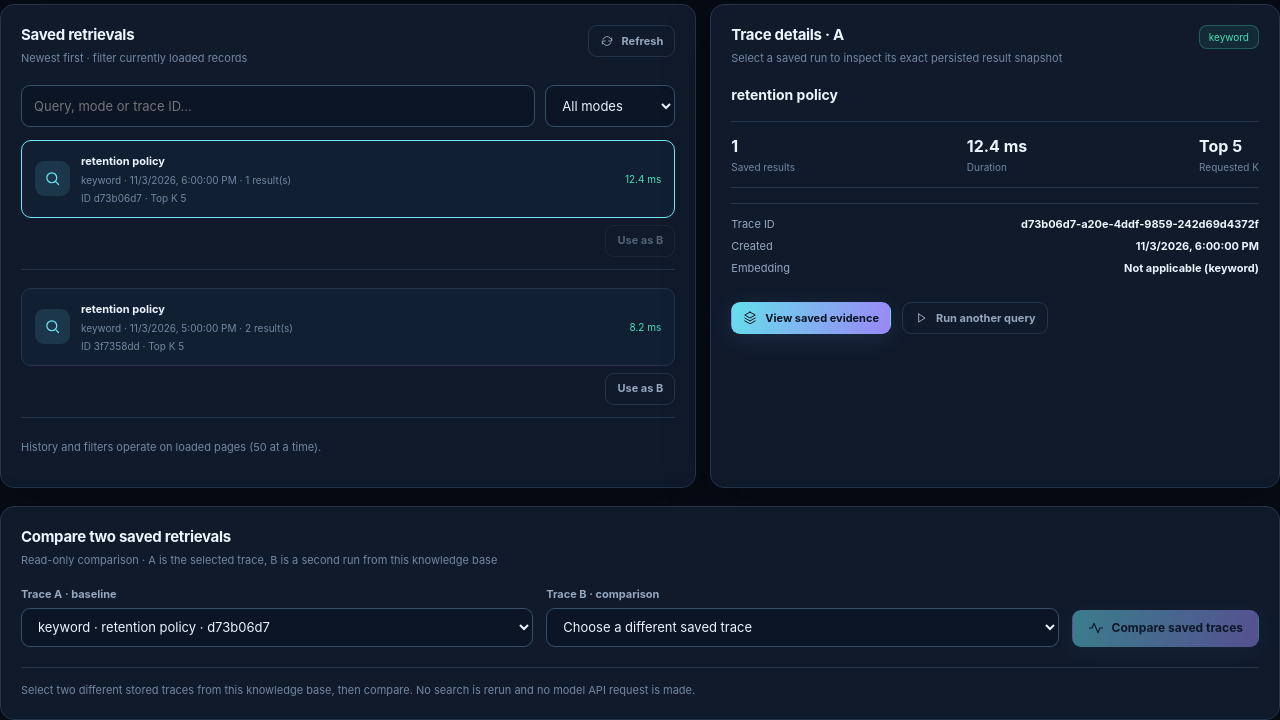
Test case: live persisted trace history › compares a selected pair with true backend overlap, ranks and timing
The image size is (1280, 720).
(page scrolled)
Select "keyword · retention policy · 3f7358dd" in the dropdown labelled "Trace B · comparison" at (802, 627), box [546,608,1059,647]
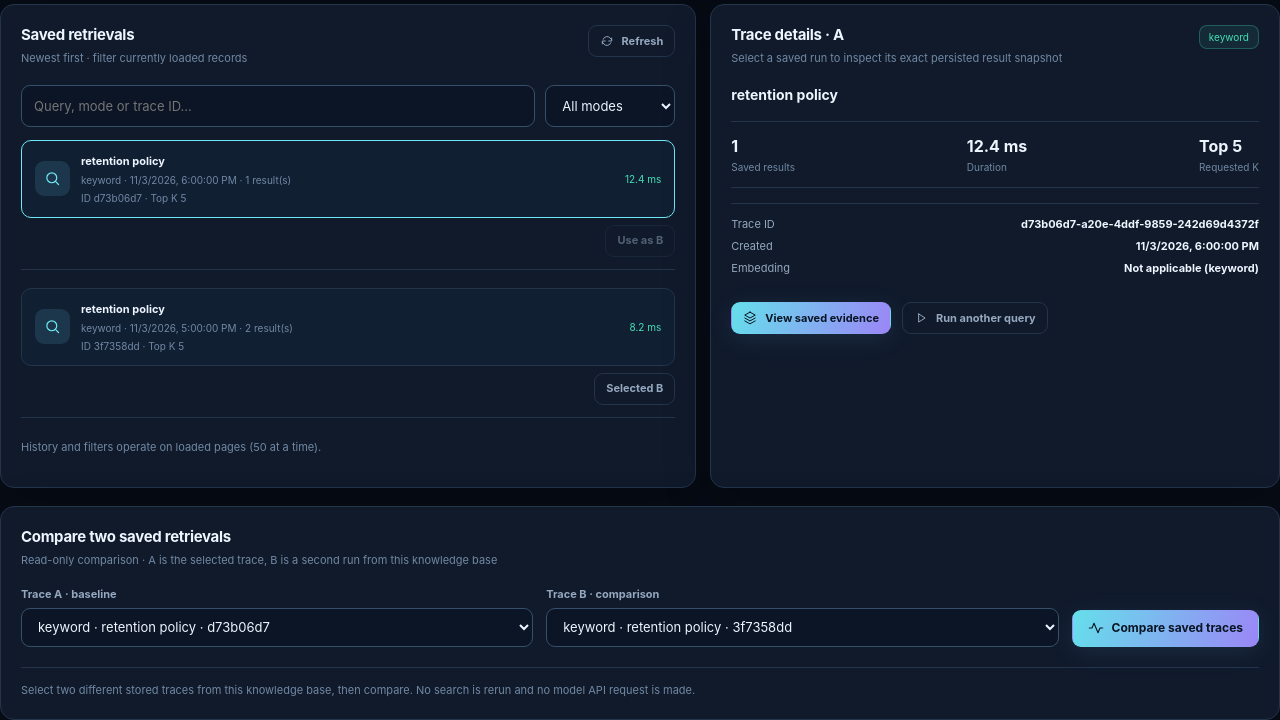
Click the button "Compare saved traces" at (1165, 628), box [1072,610,1259,647]
(page scrolled)
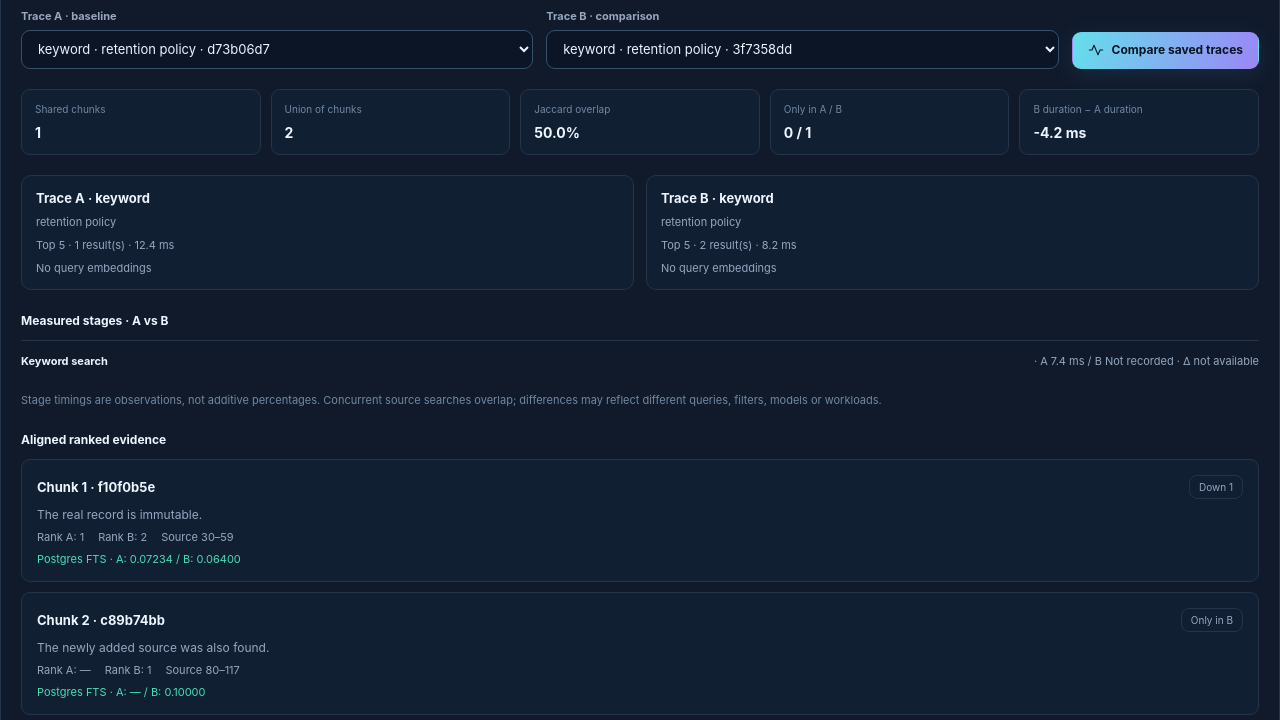
Now the text "50.0%" is shown, box [534,124,580,141]
Now the text "Down 1" is shown, box [1189,475,1243,499]
Now the text "Only in B" is shown, box [1181,608,1243,632]
